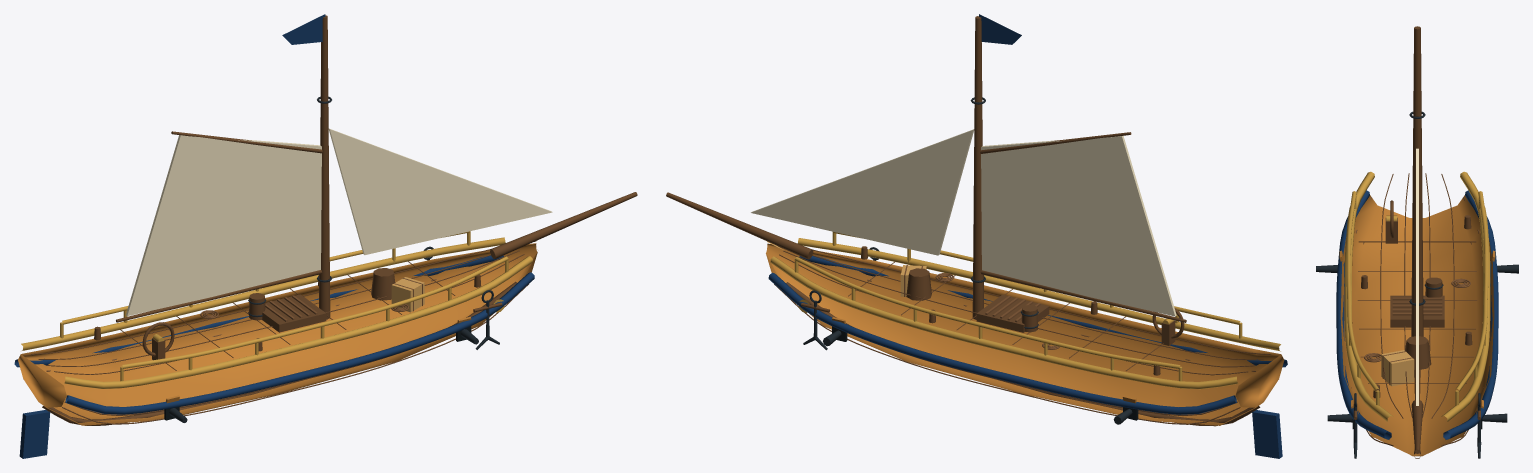
The model's file is sloop.glb.
3 renders of one model, left to right at view 1: azimuth 30°, elevation 25°; view 2: azimuth 150°, elevation 25°; view 3: azimuth 270°, elevation 25°, orthographic. The views are drawn at different scales.
Visible parts, largest first — view 1: Mesh_Batch_0, SailSurface_0, SailSurface_1, Mesh_Batch_4, Mesh_Batch_6, Mesh_Batch_5, Mesh_Batch_11, Mesh_Batch_22, Mesh_Batch_13, Mesh_Batch_9, Mesh_Batch_14; view 2: Mesh_Batch_0, SailSurface_0, SailSurface_1, Mesh_Batch_4, Mesh_Batch_6, Mesh_Batch_5, Mesh_Batch_11, Mesh_Batch_22, Mesh_Batch_13, Mesh_Batch_9; view 3: Mesh_Batch_0, Mesh_Batch_6, Mesh_Batch_4, Mesh_Batch_5, Mesh_Batch_11, Mesh_Batch_13, Mesh_Batch_9, Mesh_Batch_14, SailSurface_1.
Part boxes in pixels (left/top/right/bottom): Mesh_Batch_0: left=18, top=243, right=537, bottom=425; SailSurface_0: left=126, top=135, right=321, bottom=315; SailSurface_1: left=328, top=128, right=552, bottom=254; Mesh_Batch_4: left=21, top=231, right=532, bottom=388; Mesh_Batch_6: left=42, top=15, right=637, bottom=425; Mesh_Batch_5: left=14, top=14, right=534, bottom=458; Mesh_Batch_11: left=31, top=249, right=528, bottom=424; Mesh_Batch_22: left=116, top=131, right=322, bottom=322; Mesh_Batch_13: left=169, top=96, right=499, bottom=422; Mesh_Batch_9: left=200, top=278, right=422, bottom=321; Mesh_Batch_14: left=391, top=277, right=424, bottom=312; Mesh_Batch_0: left=766, top=243, right=1284, bottom=425; SailSurface_0: left=981, top=136, right=1176, bottom=316; SailSurface_1: left=751, top=129, right=974, bottom=255; Mesh_Batch_4: left=770, top=232, right=1280, bottom=389; Mesh_Batch_6: left=666, top=16, right=1260, bottom=426; Mesh_Batch_5: left=768, top=14, right=1287, bottom=458; Mesh_Batch_11: left=774, top=249, right=1271, bottom=424; Mesh_Batch_22: left=980, top=132, right=1186, bottom=322; Mesh_Batch_13: left=803, top=97, right=1132, bottom=424; Mesh_Batch_9: left=904, top=265, right=1059, bottom=349; Mesh_Batch_0: left=1340, top=195, right=1494, bottom=456; Mesh_Batch_6: left=1353, top=26, right=1480, bottom=458; Mesh_Batch_4: left=1344, top=171, right=1490, bottom=421; Mesh_Batch_5: left=1336, top=190, right=1498, bottom=439; Mesh_Batch_11: left=1357, top=173, right=1477, bottom=446; Mesh_Batch_13: left=1316, top=111, right=1518, bottom=458; Mesh_Batch_9: left=1364, top=278, right=1470, bottom=384; Mesh_Batch_14: left=1381, top=350, right=1414, bottom=386; SailSurface_1: left=1416, top=148, right=1418, bottom=405.
Bounding box in the file's own units: 10.7 × 6.19 × 2.92.
